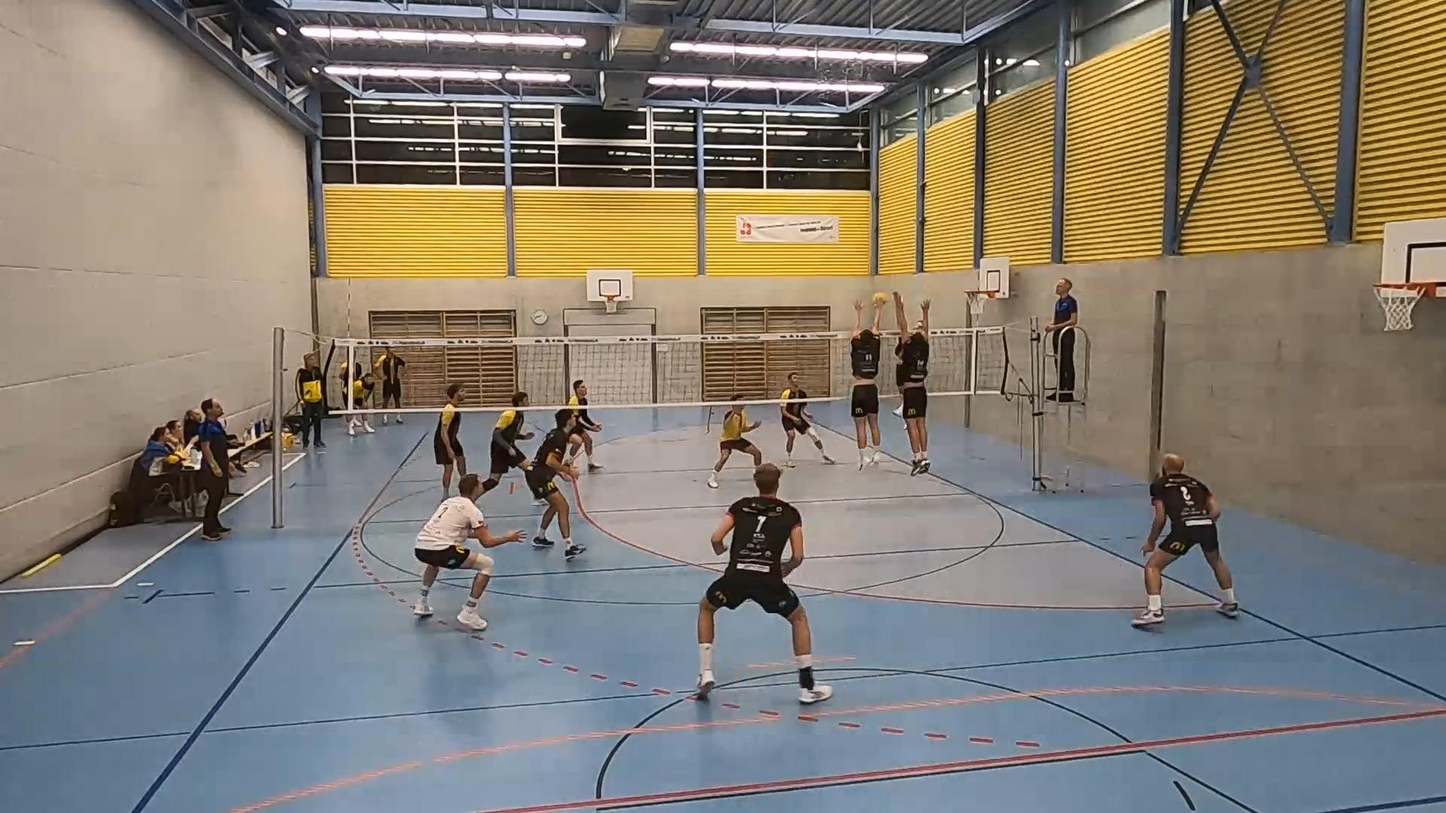Attack: (890, 309, 923, 413)
Block: (841, 297, 889, 471), (889, 295, 929, 473)
Player: (697, 464, 831, 703), (1132, 454, 1239, 626), (413, 475, 523, 631), (524, 409, 584, 561), (707, 394, 762, 488), (780, 373, 834, 467), (482, 392, 532, 492), (434, 383, 466, 494), (566, 379, 602, 472)
ball: (871, 294, 895, 307)
